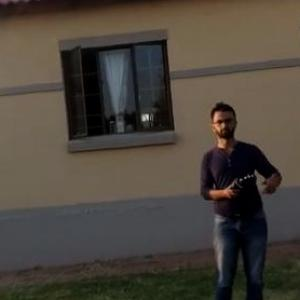follow: (188, 98, 291, 299)
